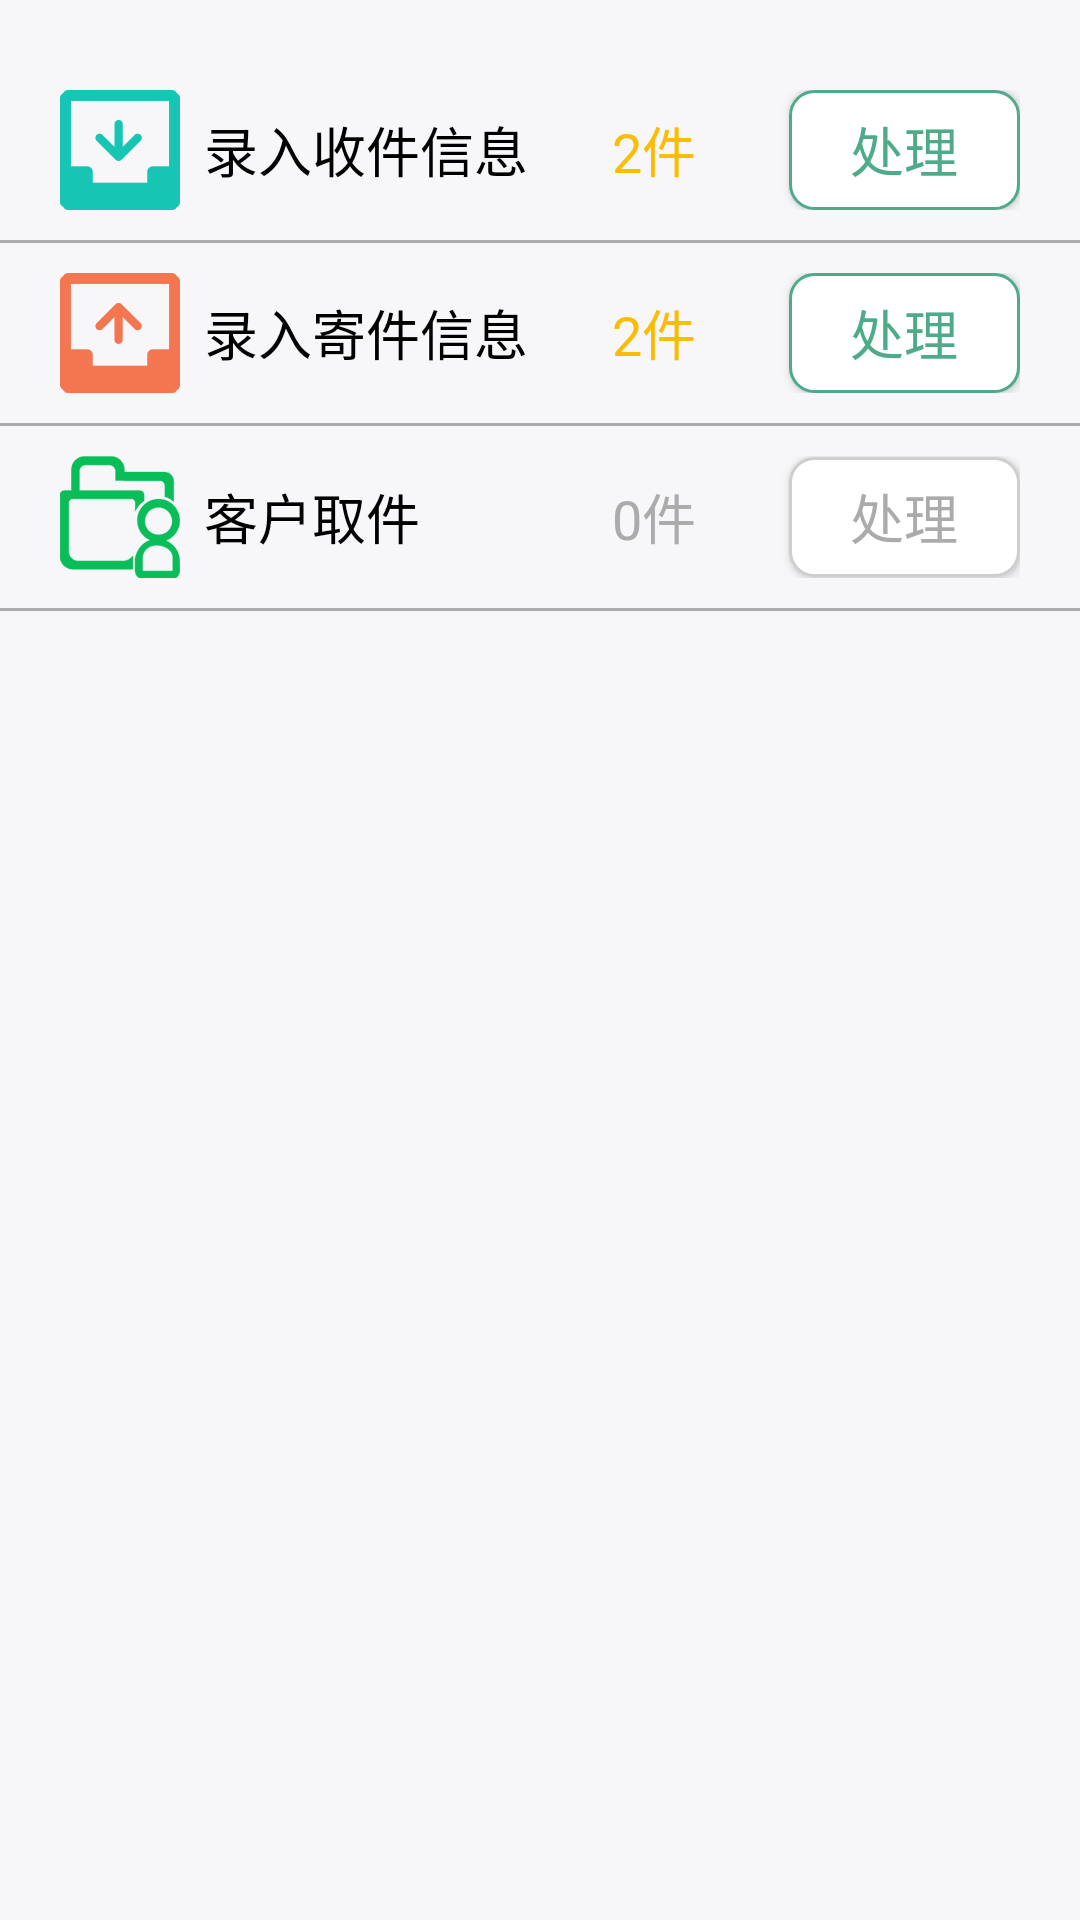

Locate icon controls on the screen. Image size 1080*1920, boxes as [x1=x1, y1=y1, x2=x2, y2=y2].
collect home: [x1=60, y1=90, x2=180, y2=210]
send home: [x1=60, y1=273, x2=180, y2=393]
